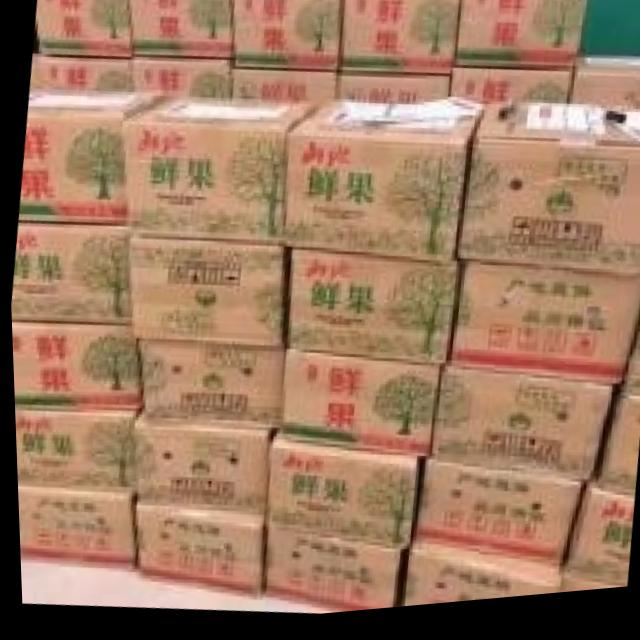box: (278, 105, 486, 269), (455, 107, 640, 288), (121, 99, 318, 248), (448, 270, 640, 395), (427, 374, 612, 490), (16, 86, 170, 225), (284, 252, 457, 374), (407, 463, 579, 576), (275, 354, 439, 461), (264, 441, 416, 556), (125, 240, 281, 351), (128, 416, 264, 517), (133, 343, 280, 432), (9, 223, 129, 325), (129, 507, 261, 598), (260, 534, 399, 618), (9, 322, 138, 410), (455, 0, 589, 79), (341, 0, 461, 82), (12, 404, 132, 486), (14, 488, 129, 571), (399, 553, 557, 613), (233, 0, 340, 76), (562, 496, 630, 597), (130, 0, 232, 61), (35, 0, 130, 56), (590, 403, 639, 507), (32, 51, 130, 97), (130, 59, 231, 102), (568, 62, 640, 119), (449, 76, 571, 108), (231, 73, 335, 108), (333, 82, 451, 111), (619, 324, 640, 408), (556, 585, 619, 602)
